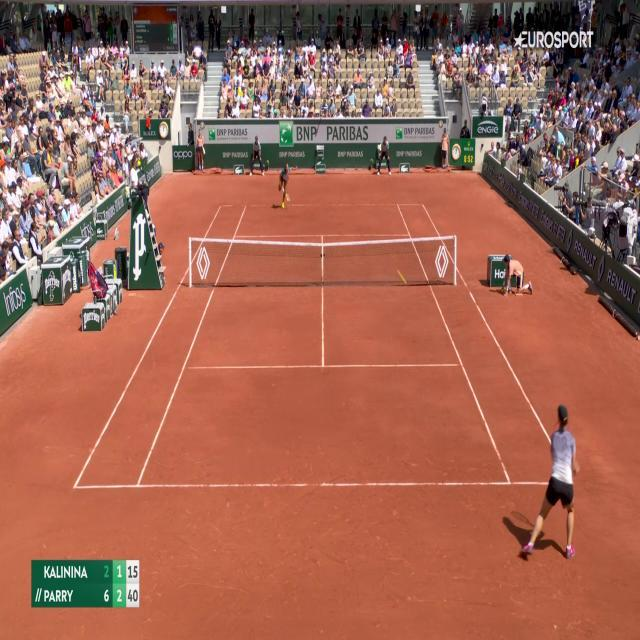left side: (398, 205, 573, 483), (74, 205, 246, 487)
player: (517, 399, 581, 565), (276, 160, 297, 208)
